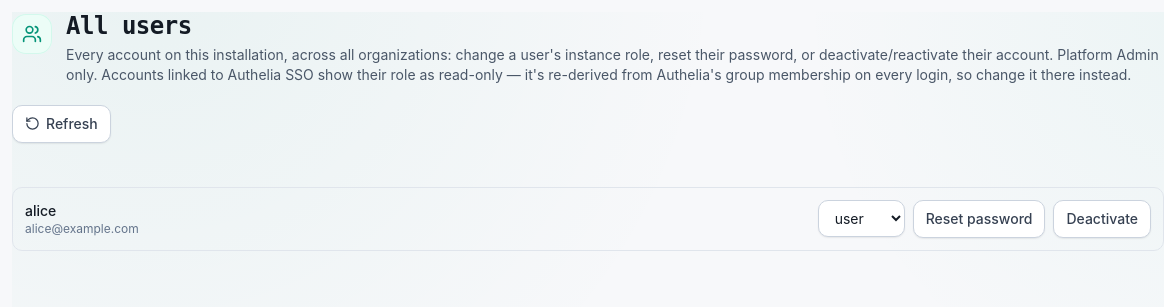
UsersPage › shows a friendly error when a role change fails (e.g. the 409 for an SSO account)
Expected: the text "alice" is shown, [25, 202, 56, 219]
Select "admin" in the dropdown at coordinates (861, 218), box [818, 200, 905, 237]
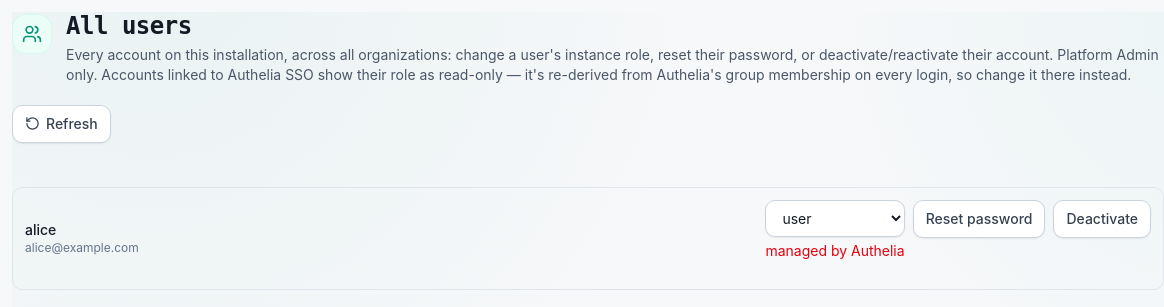
Result: the text "managed by Authelia" is shown at [765, 241, 905, 261]
